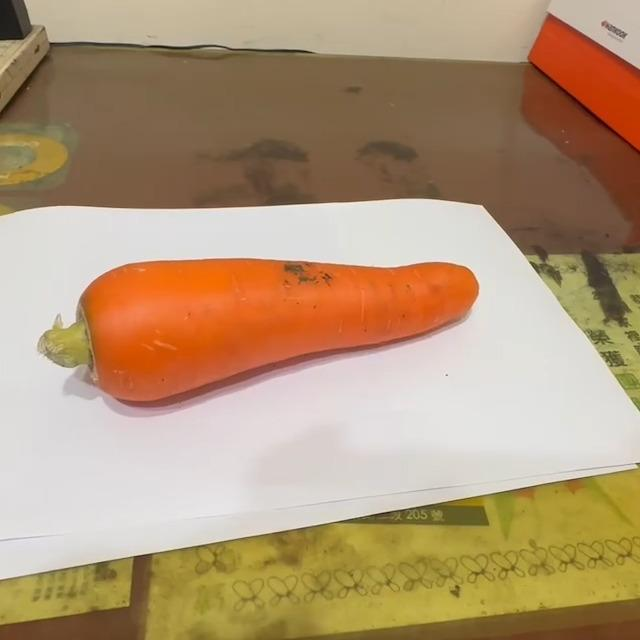carrot: (34, 255, 480, 411)
